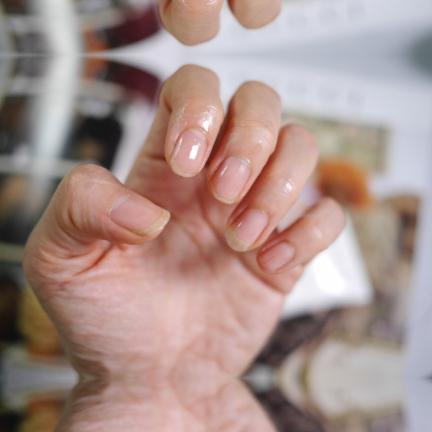Nail: (109, 192, 170, 236), (210, 155, 251, 203), (170, 128, 207, 177), (226, 208, 268, 251), (258, 241, 294, 271)
